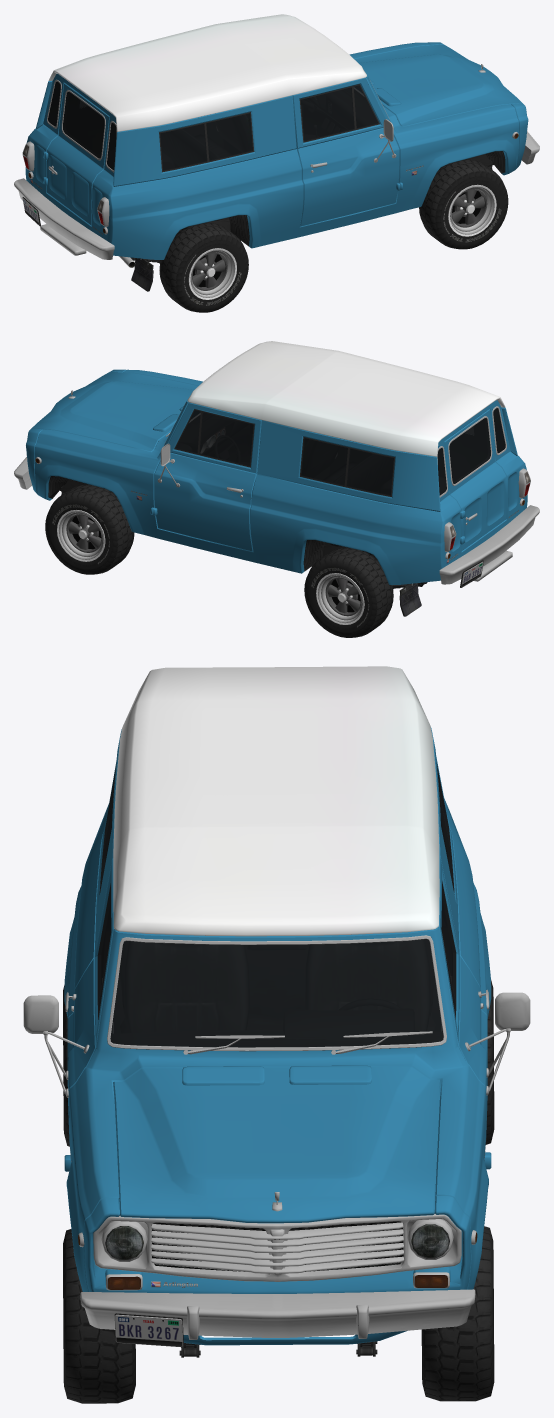
Rendered from g-bokaroo.glb.
The picture shows the model from 3 angles, top to bottom: view 1: azimuth 30°, elevation 25°; view 2: azimuth 150°, elevation 25°; view 3: azimuth 270°, elevation 25°; orthographic projection. The views are drawn at different scales.
Parts seen in each view (by area): view 1: Bokaroo67_Body_BUCKAROO_67_Bodymat_0, Bokaroo67_Bottom_UCB_BOTTOM_0, Bokaroo67_Hood_BUCKAROO_67_Bodymat_0, Bokaroo67_Interior_UCB_Interiors_2_0, Bokaroo67_WheelStock_RR_RO1a_Tire_0, Bokaroo67_WheelStock_FR_RO1a_Tire_0, Bokaroo67_Bodyglass_UCB_Lights_and_Glass_Transperent_0, Bokaroo67_Bumper_rear_UCB_BOTTOM_0, Bokaroo67_Glass_Passenger_UCB_Lights_and_Glass_Transperent_0, Bokaroo67_rear_door_glass_UCB_Lights_and_Glass_Transperent_0, Bokaroo67_rear_door_inner_UCB_BOTTOM_0; view 2: Bokaroo67_Body_BUCKAROO_67_Bodymat_0, Bokaroo67_Bottom_UCB_BOTTOM_0, Bokaroo67_Hood_BUCKAROO_67_Bodymat_0, Bokaroo67_Interior_UCB_Interiors_2_0, Bokaroo67_WheelStock_RL_RO1a_Tire_0, Bokaroo67_WheelStock_FL_RO1a_Tire_0, Bokaroo67_Bodyglass_UCB_Lights_and_Glass_Transperent_0, Bokaroo67_Bumper_rear_UCB_BOTTOM_0, Bokaroo67_Glass_Driver_UCB_Lights_and_Glass_Transperent_0, Bokaroo67_rear_door_glass_UCB_Lights_and_Glass_Transperent_0, Bokaroo67_rear_door_inner_UCB_BOTTOM_0; view 3: Bokaroo67_Bottom_UCB_BOTTOM_0, Bokaroo67_Body_BUCKAROO_67_Bodymat_0, Bokaroo67_Hood_BUCKAROO_67_Bodymat_0, Bokaroo67_Windshield_UCB_Lights_and_Glass_Transperent_0, Bokaroo67_Interior_UCB_Interiors_2_0, Bokaroo67_Bumper_Front_UCB_BOTTOM_0, Bokaroo67_WheelStock_FL_RO1a_Tire_0, Bokaroo67_WheelStock_FR_RO1a_Tire_0, Bokaroo67_Headlight_Glass_UCB_Lights_and_Glass_0, Bokaroo67_Numberplate_Front_Numberplates_Misk_U_0, Bokaroo67_Bodyglass_UCB_Lights_and_Glass_Transperent_0, Bokaroo67_WheelStock_RL_RO1a_Tire_0.
Part boxes in pixels (box(x1,y1,x2,y2)): Bokaroo67_Body_BUCKAROO_67_Bodymat_0: box(25, 42, 528, 259); Bokaroo67_Bottom_UCB_BOTTOM_0: box(22, 14, 518, 291); Bokaroo67_Hood_BUCKAROO_67_Bodymat_0: box(354, 44, 522, 126); Bokaroo67_Interior_UCB_Interiors_2_0: box(48, 82, 376, 170); Bokaroo67_WheelStock_RR_RO1a_Tire_0: box(159, 222, 248, 312); Bokaroo67_WheelStock_FR_RO1a_Tire_0: box(419, 159, 508, 249); Bokaroo67_Bodyglass_UCB_Lights_and_Glass_Transperent_0: box(48, 81, 378, 170); Bokaroo67_Bumper_rear_UCB_BOTTOM_0: box(14, 178, 114, 259); Bokaroo67_Glass_Passenger_UCB_Lights_and_Glass_Transperent_0: box(300, 87, 354, 141); Bokaroo67_rear_door_glass_UCB_Lights_and_Glass_Transperent_0: box(63, 92, 104, 158); Bokaroo67_rear_door_inner_UCB_BOTTOM_0: box(48, 90, 105, 174); Bokaroo67_Body_BUCKAROO_67_Bodymat_0: box(26, 369, 527, 585); Bokaroo67_Bottom_UCB_BOTTOM_0: box(35, 341, 530, 616); Bokaroo67_Hood_BUCKAROO_67_Bodymat_0: box(32, 371, 197, 452); Bokaroo67_Interior_UCB_Interiors_2_0: box(177, 408, 504, 494); Bokaroo67_WheelStock_RL_RO1a_Tire_0: box(304, 548, 393, 637); Bokaroo67_WheelStock_FL_RO1a_Tire_0: box(45, 484, 134, 574); Bokaroo67_Bodyglass_UCB_Lights_and_Glass_Transperent_0: box(176, 408, 505, 495); Bokaroo67_Bumper_rear_UCB_BOTTOM_0: box(439, 505, 539, 587); Bokaroo67_Glass_Driver_UCB_Lights_and_Glass_Transperent_0: box(199, 412, 253, 466); Bokaroo67_rear_door_glass_UCB_Lights_and_Glass_Transperent_0: box(449, 418, 490, 483); Bokaroo67_rear_door_inner_UCB_BOTTOM_0: box(448, 416, 492, 525); Bokaroo67_Bottom_UCB_BOTTOM_0: box(23, 666, 530, 1290); Bokaroo67_Body_BUCKAROO_67_Bodymat_0: box(64, 728, 491, 1345); Bokaroo67_Hood_BUCKAROO_67_Bodymat_0: box(113, 1065, 441, 1223); Bokaroo67_Windshield_UCB_Lights_and_Glass_Transperent_0: box(110, 939, 443, 1047); Bokaroo67_Interior_UCB_Interiors_2_0: box(102, 822, 452, 1049); Bokaroo67_Bumper_Front_UCB_BOTTOM_0: box(80, 1289, 475, 1345); Bokaroo67_WheelStock_FL_RO1a_Tire_0: box(421, 1226, 494, 1401); Bokaroo67_WheelStock_FR_RO1a_Tire_0: box(63, 1229, 135, 1403); Bokaroo67_Headlight_Glass_UCB_Lights_and_Glass_0: box(105, 1224, 449, 1260); Bokaroo67_Numberplate_Front_Numberplates_Misk_U_0: box(114, 1314, 183, 1347); Bokaroo67_Bodyglass_UCB_Lights_and_Glass_Transperent_0: box(98, 763, 455, 1016); Bokaroo67_WheelStock_RL_RO1a_Tire_0: box(485, 980, 494, 1144).
Bounding box in the file's own units: 4.59 × 1.96 × 2.21.
Materials: 8 (7 with a texture image).
